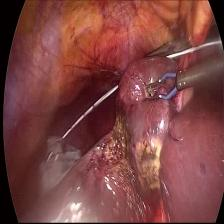Bipolar: (148, 64, 196, 109)
Grasper: (144, 34, 180, 62)
Specimen Bag: (36, 118, 84, 202)
